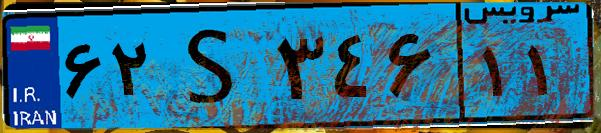1: (475, 38, 525, 113), (525, 38, 570, 115)
2: (110, 28, 158, 98)
3: (270, 28, 330, 110)
4: (330, 28, 385, 110)
6: (385, 28, 445, 110), (57, 26, 110, 100)
S: (158, 12, 270, 120)
